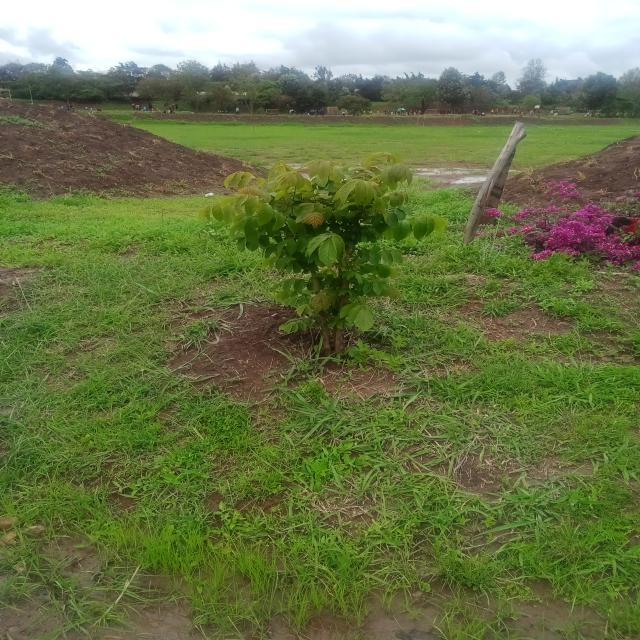Polyscias Kikuyensis: (203, 154, 446, 352)
